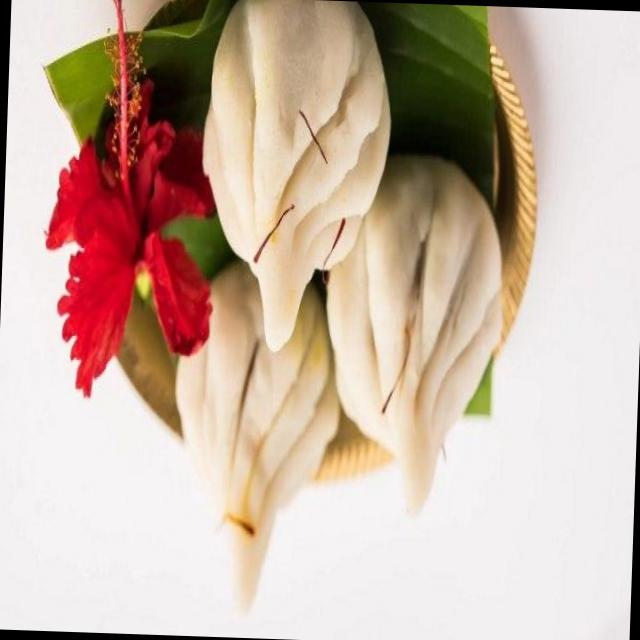modak: (193, 0, 461, 495)
